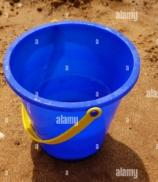SEAU: (5, 3, 154, 177)
